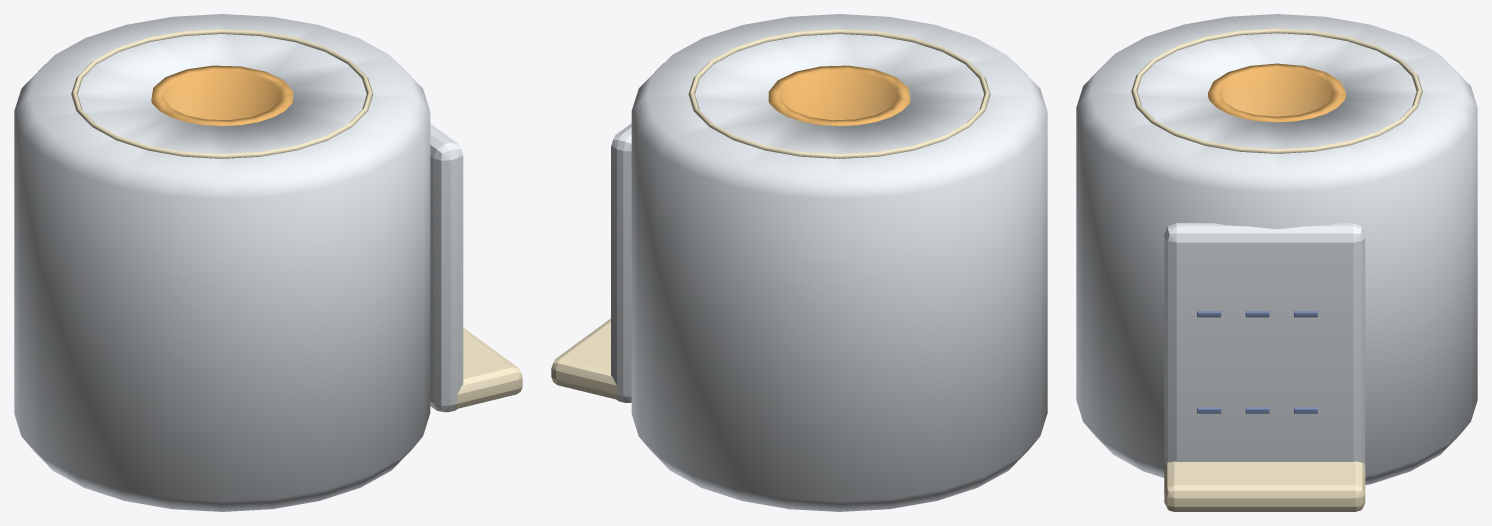
File: ToiletPaper.fbx
3 views of the same model, side by side, from view 1: azimuth 30°, elevation 25°; view 2: azimuth 150°, elevation 25°; view 3: azimuth 270°, elevation 25° (orthographic). The views are drawn at different scales.
Parts seen in each view (by area): view 1: ToiletPaper; view 2: ToiletPaper; view 3: ToiletPaper.
Part boxes in pixels (x1,y1,x2,y2): ToiletPaper: (14,14,522,511); ToiletPaper: (551,14,1047,511); ToiletPaper: (1076,14,1477,511).
Bounding box in the file's own units: 2.4 × 1.82 × 2.03.
Materials: 1 (1 with a texture image).
